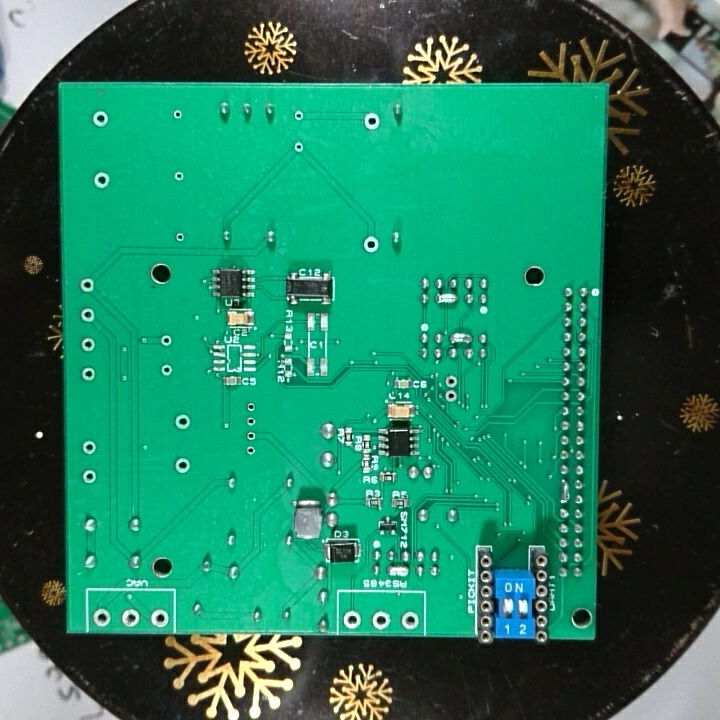F: (90, 107, 111, 132), (90, 606, 113, 628), (148, 607, 171, 629), (399, 609, 421, 632), (119, 606, 142, 627), (370, 610, 392, 631), (173, 411, 193, 434), (360, 234, 382, 254), (362, 111, 382, 133), (77, 306, 99, 326), (92, 169, 111, 191), (77, 275, 97, 295), (342, 609, 362, 629), (173, 455, 191, 477), (79, 336, 99, 355), (158, 332, 176, 351), (80, 438, 97, 458), (80, 365, 97, 384), (159, 360, 176, 379), (442, 389, 461, 406), (291, 137, 307, 156), (81, 466, 97, 485), (171, 168, 187, 185), (242, 427, 259, 443), (443, 373, 460, 389), (243, 398, 258, 416), (291, 107, 306, 124), (243, 414, 260, 429), (244, 442, 257, 460), (171, 106, 185, 122), (174, 229, 186, 246)
P: (385, 560, 410, 581), (448, 329, 475, 346), (434, 289, 459, 307), (559, 476, 572, 505)
